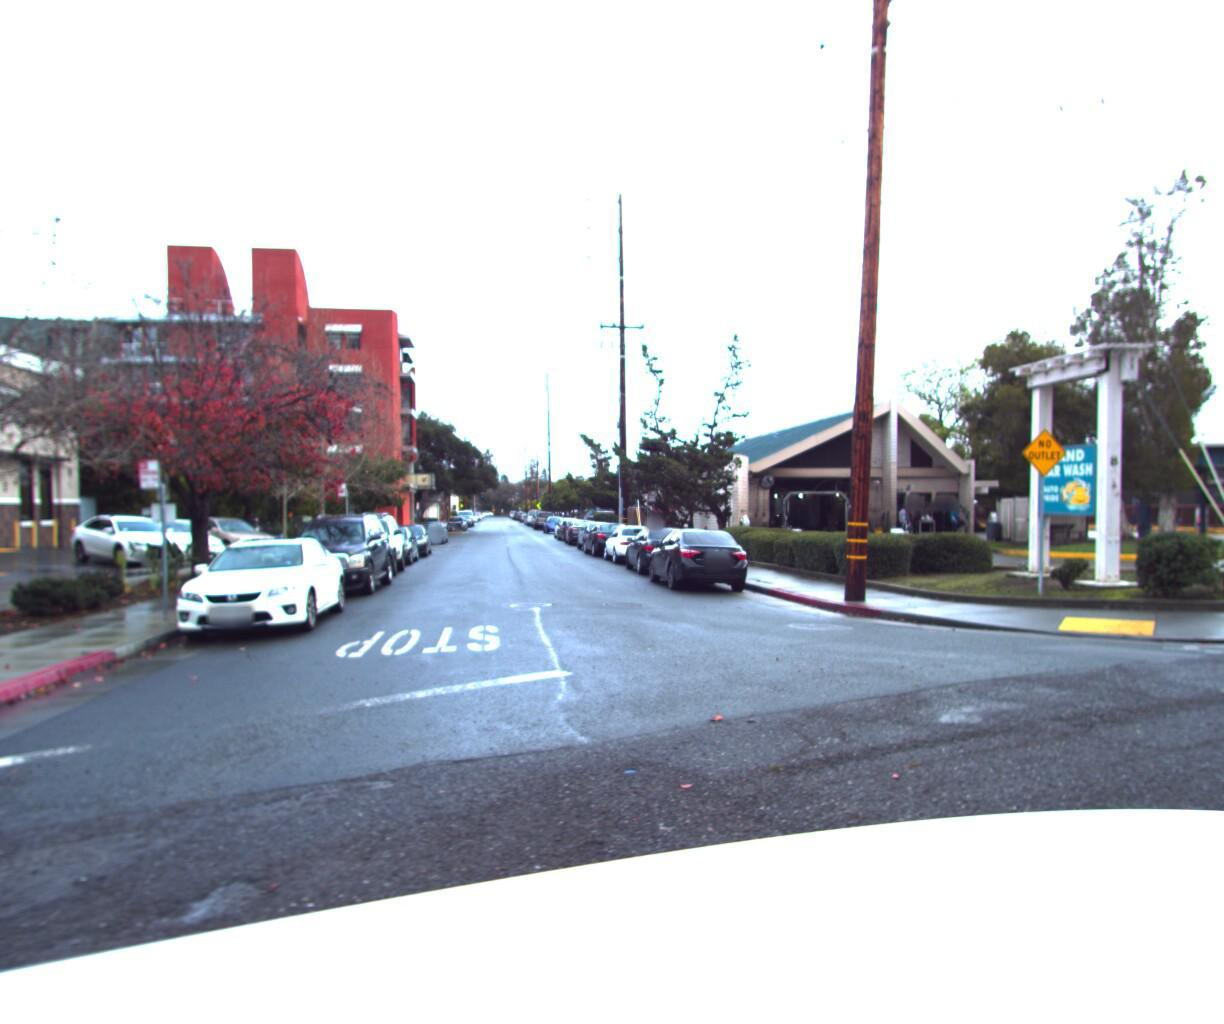car: (139, 532, 361, 649), (263, 511, 399, 605), (641, 525, 766, 598), (66, 513, 202, 574), (321, 511, 409, 584), (127, 519, 235, 570), (175, 518, 288, 563), (620, 526, 710, 580), (603, 523, 669, 568), (359, 528, 421, 573), (582, 522, 642, 560), (380, 522, 434, 560), (574, 521, 623, 555), (564, 519, 604, 546), (414, 518, 449, 548), (553, 517, 584, 541), (543, 516, 567, 534), (534, 511, 556, 528)
